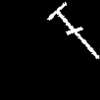double_crochet: (48, 2, 98, 58)
